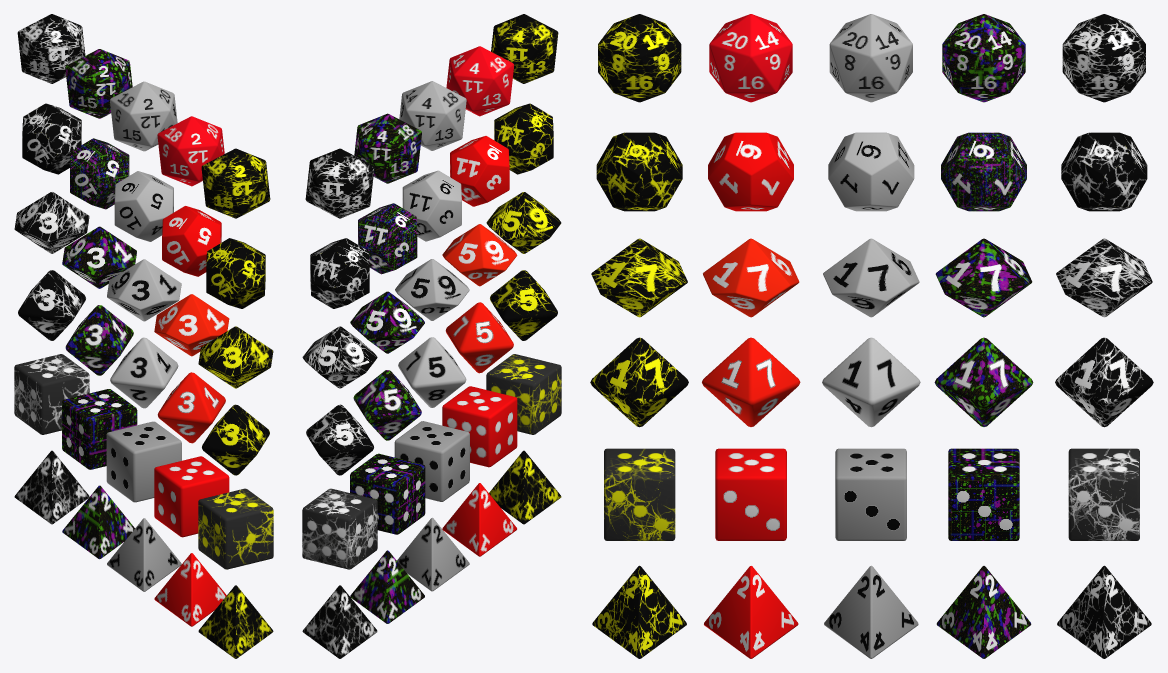
Rendered from dnd_dice_set.glb.
3 renders of one model, left to right at view 1: azimuth 30°, elevation 25°; view 2: azimuth 150°, elevation 25°; view 3: azimuth 270°, elevation 25°, orthographic. The views are drawn at different scales.
Parts seen in each view (by area): view 1: 6Yellow, 6Silver, 6White, 6TieDye, 6Red, 20Yellow, 12Yellow, 20White, 20Silver, 20TieDye, 20Red, 12White (+18 smaller); view 2: 6White, 6TieDye, 6Red, 6Silver, 6Yellow, 20White, 12White, 20Red, 20TieDye, 20Silver, 20Yellow, 12TieDye (+18 smaller); view 3: 6Silver, 6TieDye, 6Red, 6White, 6Yellow, 20Silver, 20White, 20Yellow, 20TieDye, 20Red, 12Silver, 12White (+18 smaller).
Part boxes in pixels (box(x1,y1,x2,y2)): 6Yellow: box(198, 488, 273, 569); 6Silver: box(106, 421, 181, 502); 6White: box(14, 354, 89, 434); 6TieDye: box(62, 389, 137, 469); 6Red: box(154, 456, 229, 537); 20Yellow: box(201, 148, 270, 218); 12Yellow: box(206, 238, 265, 308); 20White: box(17, 14, 85, 83); 20Silver: box(110, 81, 177, 151); 20TieDye: box(65, 49, 132, 118); 20Red: box(157, 116, 224, 186); 12White: box(22, 103, 81, 174); 6White: box(302, 488, 377, 569); 6TieDye: box(350, 453, 425, 534); 6Red: box(442, 386, 517, 467); 6Silver: box(394, 421, 469, 501); 6Yellow: box(486, 354, 561, 434); 20White: box(305, 148, 374, 218); 12White: box(310, 238, 369, 308); 20Red: box(446, 46, 514, 116); 20TieDye: box(354, 113, 421, 183); 20Silver: box(399, 81, 466, 150); 20Yellow: box(491, 14, 558, 83); 12TieDye: box(358, 203, 417, 274); 6Silver: box(835, 448, 906, 540); 6TieDye: box(948, 448, 1019, 540); 6Red: box(715, 448, 786, 540); 6White: box(1068, 448, 1139, 540); 6Yellow: box(604, 448, 675, 540); 20Silver: box(829, 14, 912, 102); 20White: box(1062, 14, 1145, 102); 20Yellow: box(598, 14, 681, 102); 20TieDye: box(942, 14, 1025, 102); 20Red: box(709, 14, 792, 102); 12Silver: box(828, 132, 914, 211); 12White: box(1061, 132, 1147, 211).
Size of the model in its own units: 1.7 by 11.24 by 9.22.
30 materials, 30 textured.
